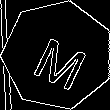M_NE: (25, 23, 90, 88)
